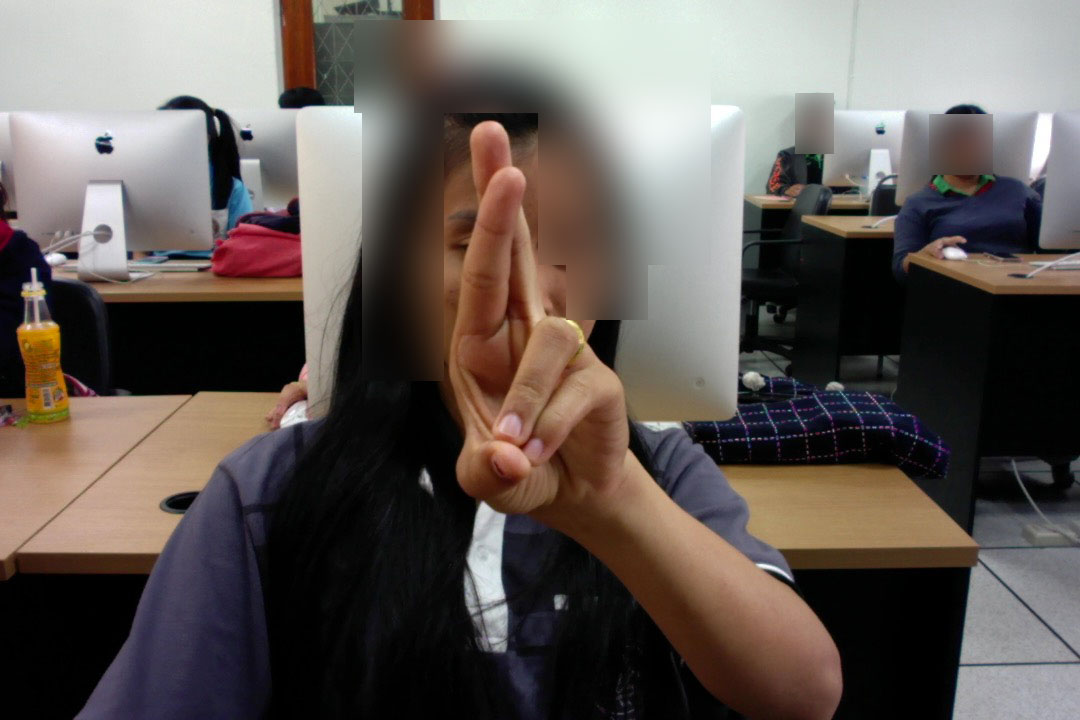rao: (435, 118, 636, 524)
